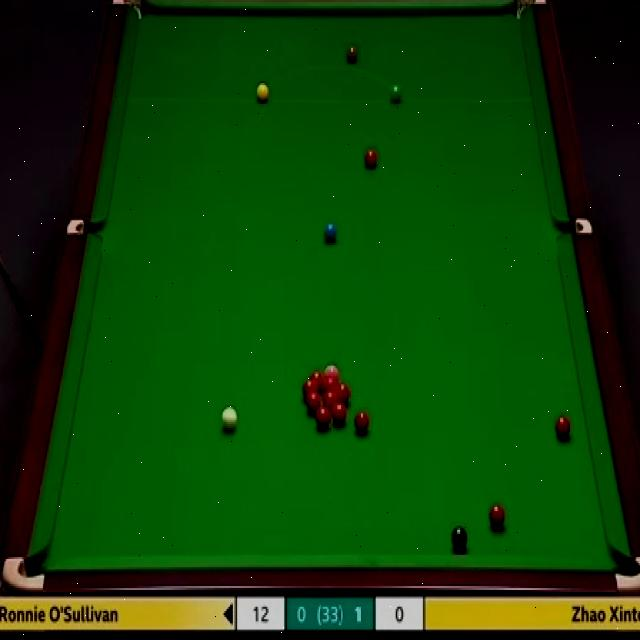black-ball: (450, 526, 468, 550)
blue-ball: (322, 222, 338, 245)
brown-ball: (347, 46, 359, 61)
green-ball: (389, 83, 403, 102)
pink-ball: (324, 365, 340, 376)
red-ball: (489, 503, 505, 528), (331, 402, 347, 424), (355, 411, 370, 433), (305, 392, 320, 414), (315, 407, 330, 428), (556, 415, 570, 437), (338, 383, 351, 405), (365, 148, 377, 170), (310, 370, 324, 387), (301, 380, 316, 394), (323, 392, 338, 404), (326, 374, 337, 390)
white-ball: (220, 406, 240, 432)
yellow-ball: (256, 84, 268, 103)
